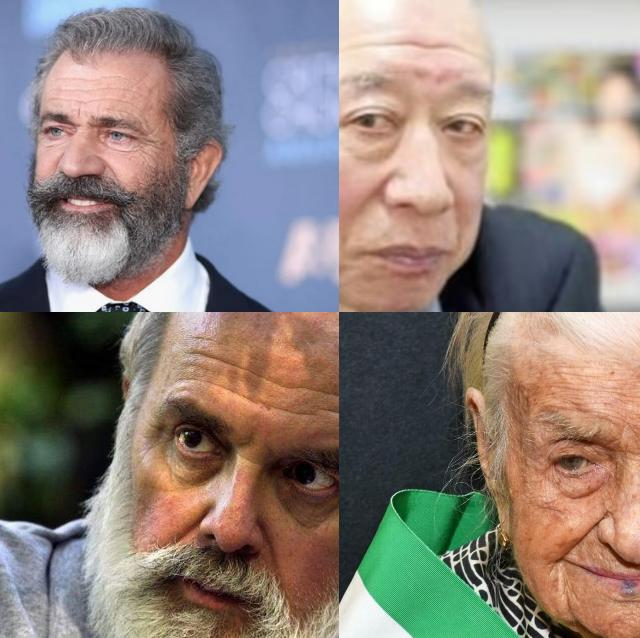crows_feet: (135, 131, 157, 155)
forehead: (392, 24, 458, 59), (190, 341, 238, 372), (263, 374, 319, 400), (266, 396, 310, 428), (214, 378, 254, 406), (107, 84, 133, 114), (48, 84, 70, 106), (76, 93, 102, 109), (327, 404, 339, 438), (324, 382, 339, 406)
frown_line: (239, 451, 261, 467)
gummy_smile: (562, 508, 600, 556), (362, 166, 392, 204), (177, 508, 201, 538), (98, 156, 118, 180), (53, 152, 65, 174)
sad_smile: (553, 573, 577, 613)
